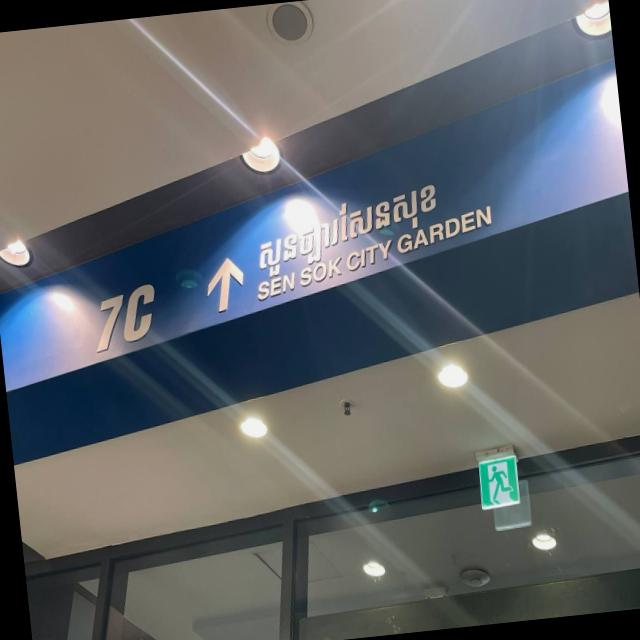Yolov11_80vkh: (251, 167, 442, 284)
